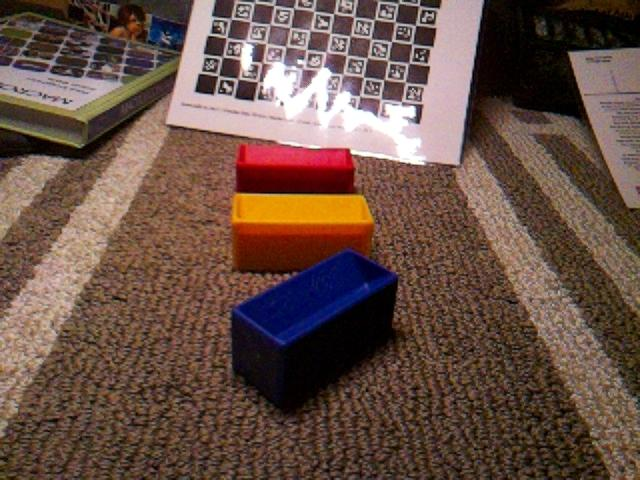blue: (229, 246, 401, 411)
red: (234, 142, 357, 194)
yellow: (230, 191, 375, 273)
